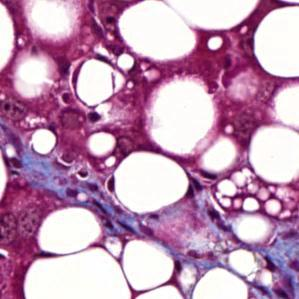steatosis: (112, 150, 190, 215), (34, 206, 106, 255)
